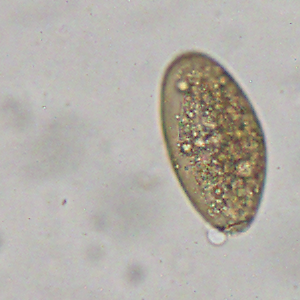Fasciola_hepatica_egg: (157, 48, 270, 236)
